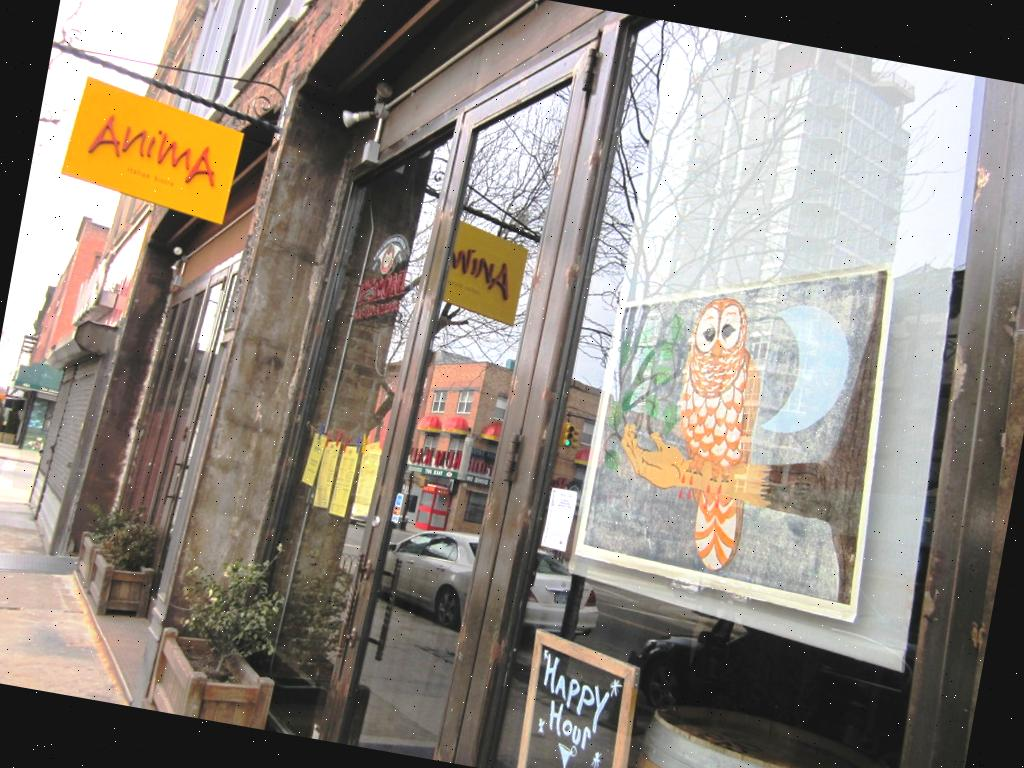Owl: (649, 290, 781, 576)
